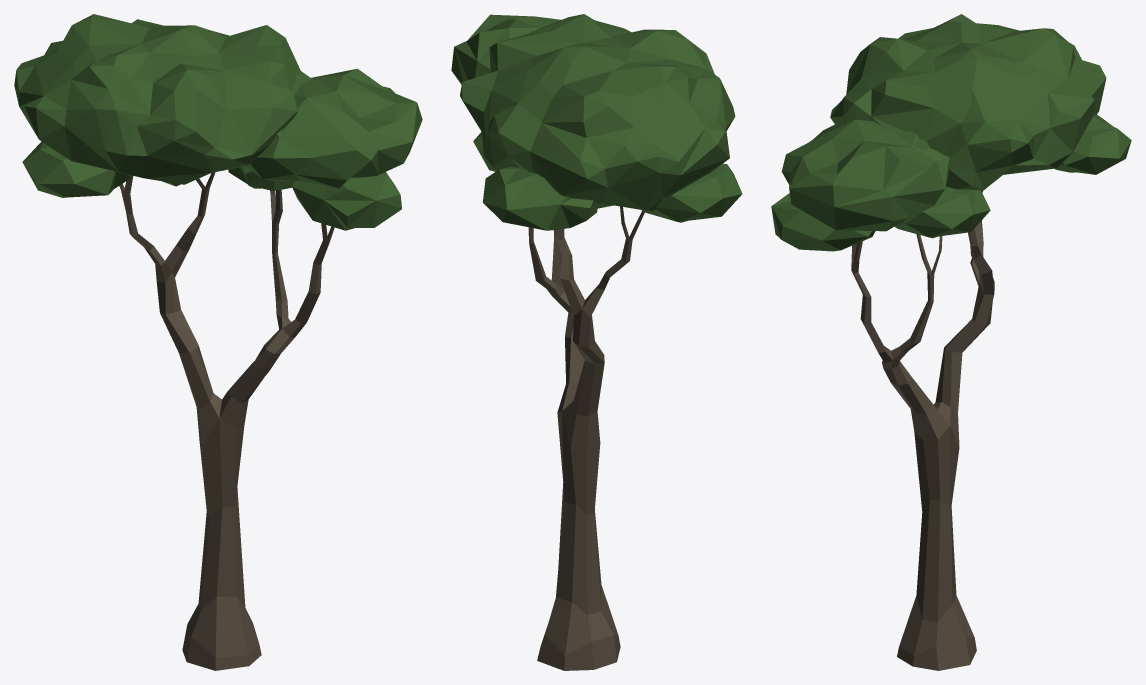
The model's file is SM_Env_Tree_Large_02.glb.
The picture shows the model from 3 angles, left to right: view 1: azimuth 30°, elevation 25°; view 2: azimuth 150°, elevation 25°; view 3: azimuth 270°, elevation 25°; orthographic projection. The views are drawn at different scales.
Parts seen in each view (by area): view 1: SM_Env_Tree_Large_02; view 2: SM_Env_Tree_Large_02; view 3: SM_Env_Tree_Large_02.
Part boxes in pixels (<box>): SM_Env_Tree_Large_02: <box>14,14,422,670</box>; SM_Env_Tree_Large_02: <box>451,14,742,670</box>; SM_Env_Tree_Large_02: <box>771,14,1131,670</box>.
Size of the model in its own units: 0.1017 by 0.187 by 0.103.
